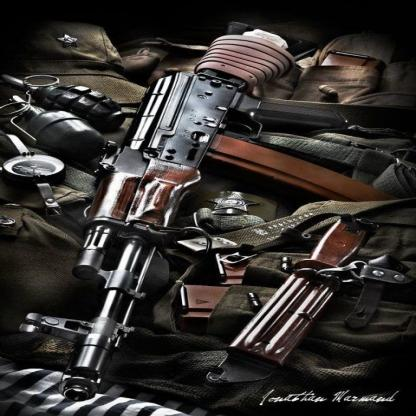Grenade: (2, 72, 128, 133), (2, 92, 106, 158)
Gun: (14, 20, 416, 403)
Knife: (205, 212, 375, 387)
